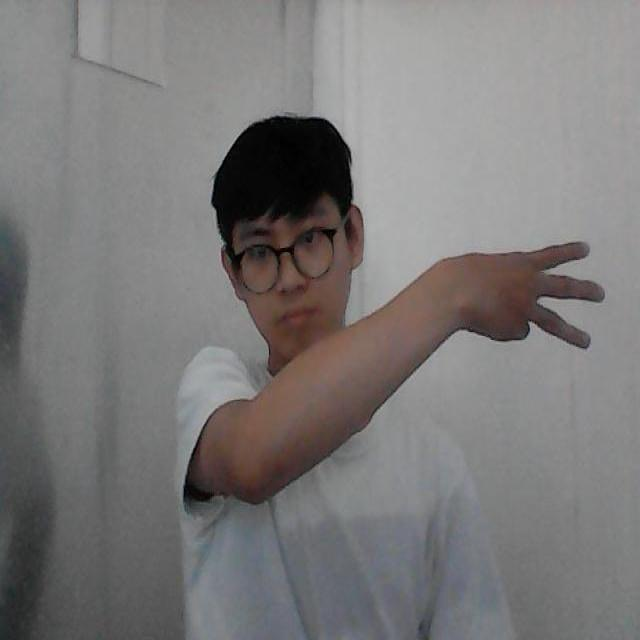E: (428, 234, 608, 358)
